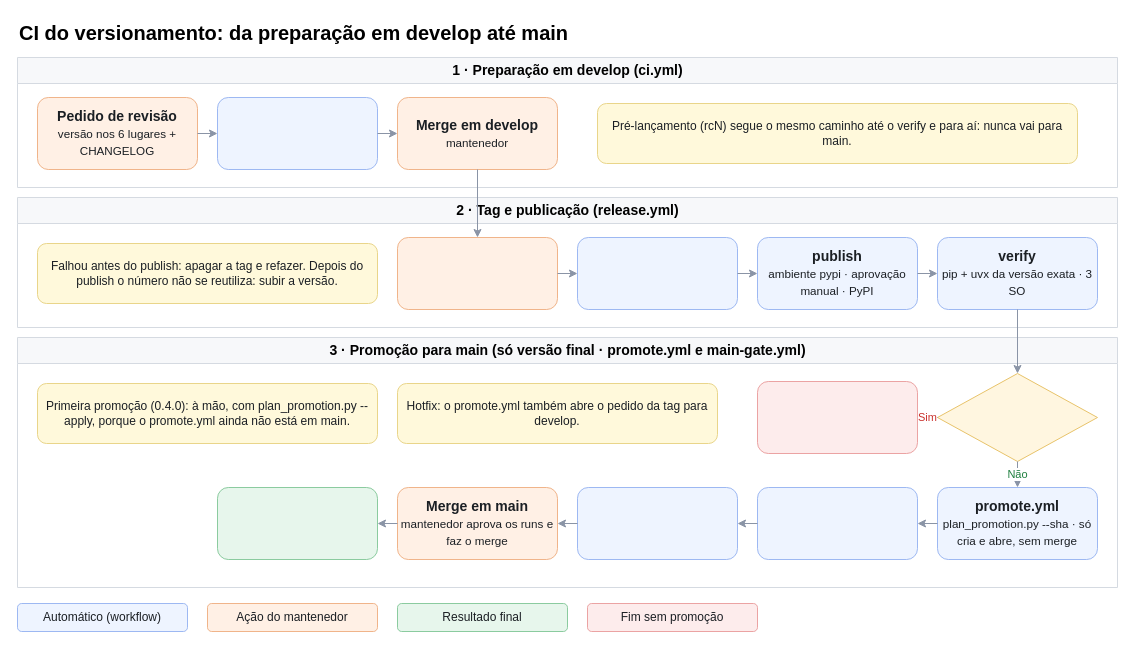
Some shapes in this 1135 by 649 pixel diagram are drawn without their labels. The shapes that lost their labels are listed below. From the top down, each one's centre as x and y in pixels, then its label:
At (x=297, y=133): "ci.yml test 3 SO × 3 Pythons · plugin validate · audit".
At (x=477, y=273): "Tag vX.Y.Z / vX.Y.ZrcN em develop · mantenedor".
At (x=657, y=273): "build tag = versão = changelog · uv build · smoke".
At (x=837, y=417): "Fim pré-lançamento nunca chega a main".
At (x=1017, y=417): "Tag tem rc?".
At (x=297, y=523): "main = marketplace o usuário recebe a versão nova".
At (x=657, y=523): "main-gate + CI origem promote/v*, commit = tag, versão no PyPI".
At (x=837, y=523): "promote/vX.Y.Z branch no commit da tag + pedido para main".
